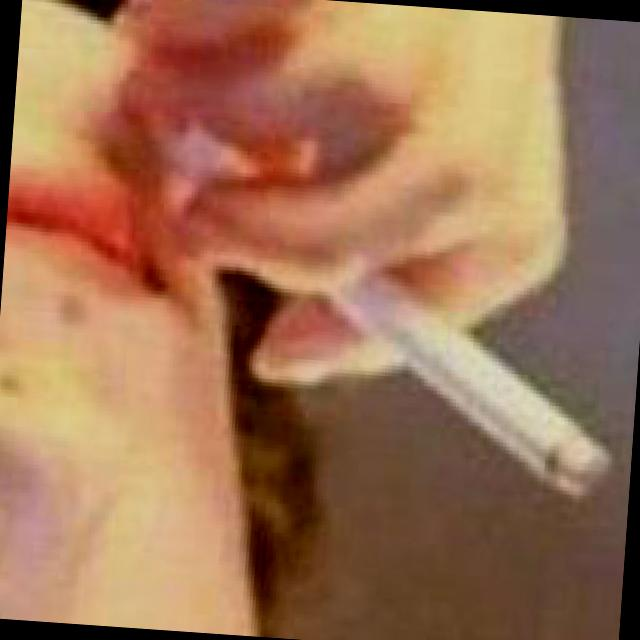cigarette: (130, 92, 640, 546)
